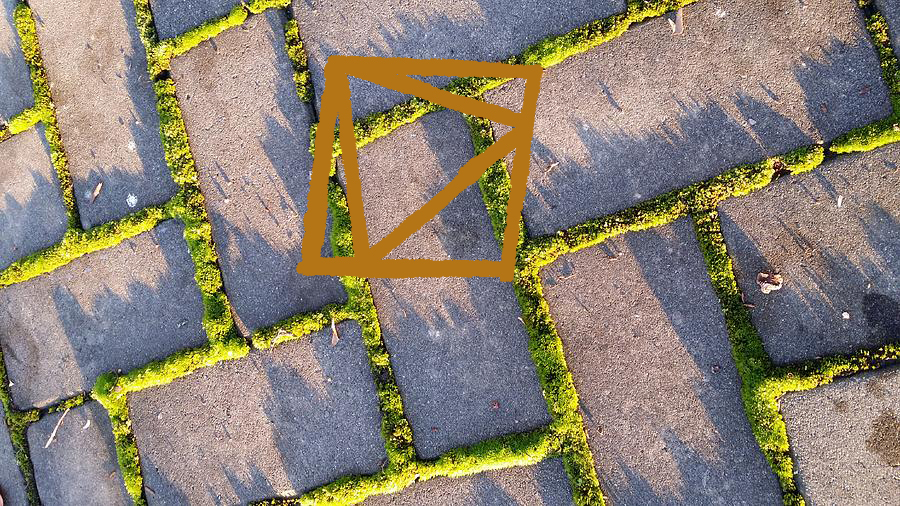marker: (295, 49, 546, 286)
